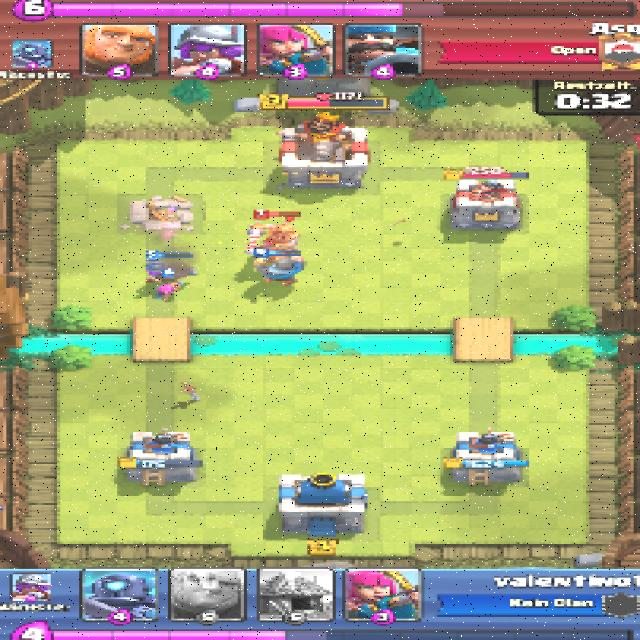Enemy-Prince: (244, 221, 300, 254)
Player-Archer: (154, 284, 179, 298)
Player-Knight: (251, 255, 304, 287)
Player-Musketeer: (145, 262, 198, 284)
